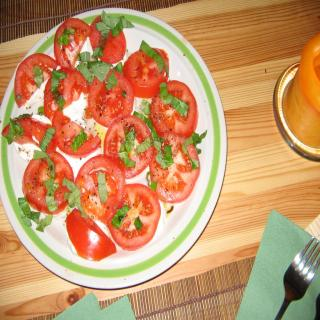tomato: (71, 151, 125, 224), (106, 183, 160, 253), (150, 132, 202, 204), (21, 148, 74, 214), (104, 114, 152, 178), (150, 78, 200, 138), (86, 67, 134, 128), (66, 207, 120, 261), (13, 51, 60, 107), (49, 109, 102, 156), (43, 66, 89, 120), (121, 46, 169, 96), (1, 114, 62, 153), (55, 16, 91, 69), (88, 16, 125, 62)
